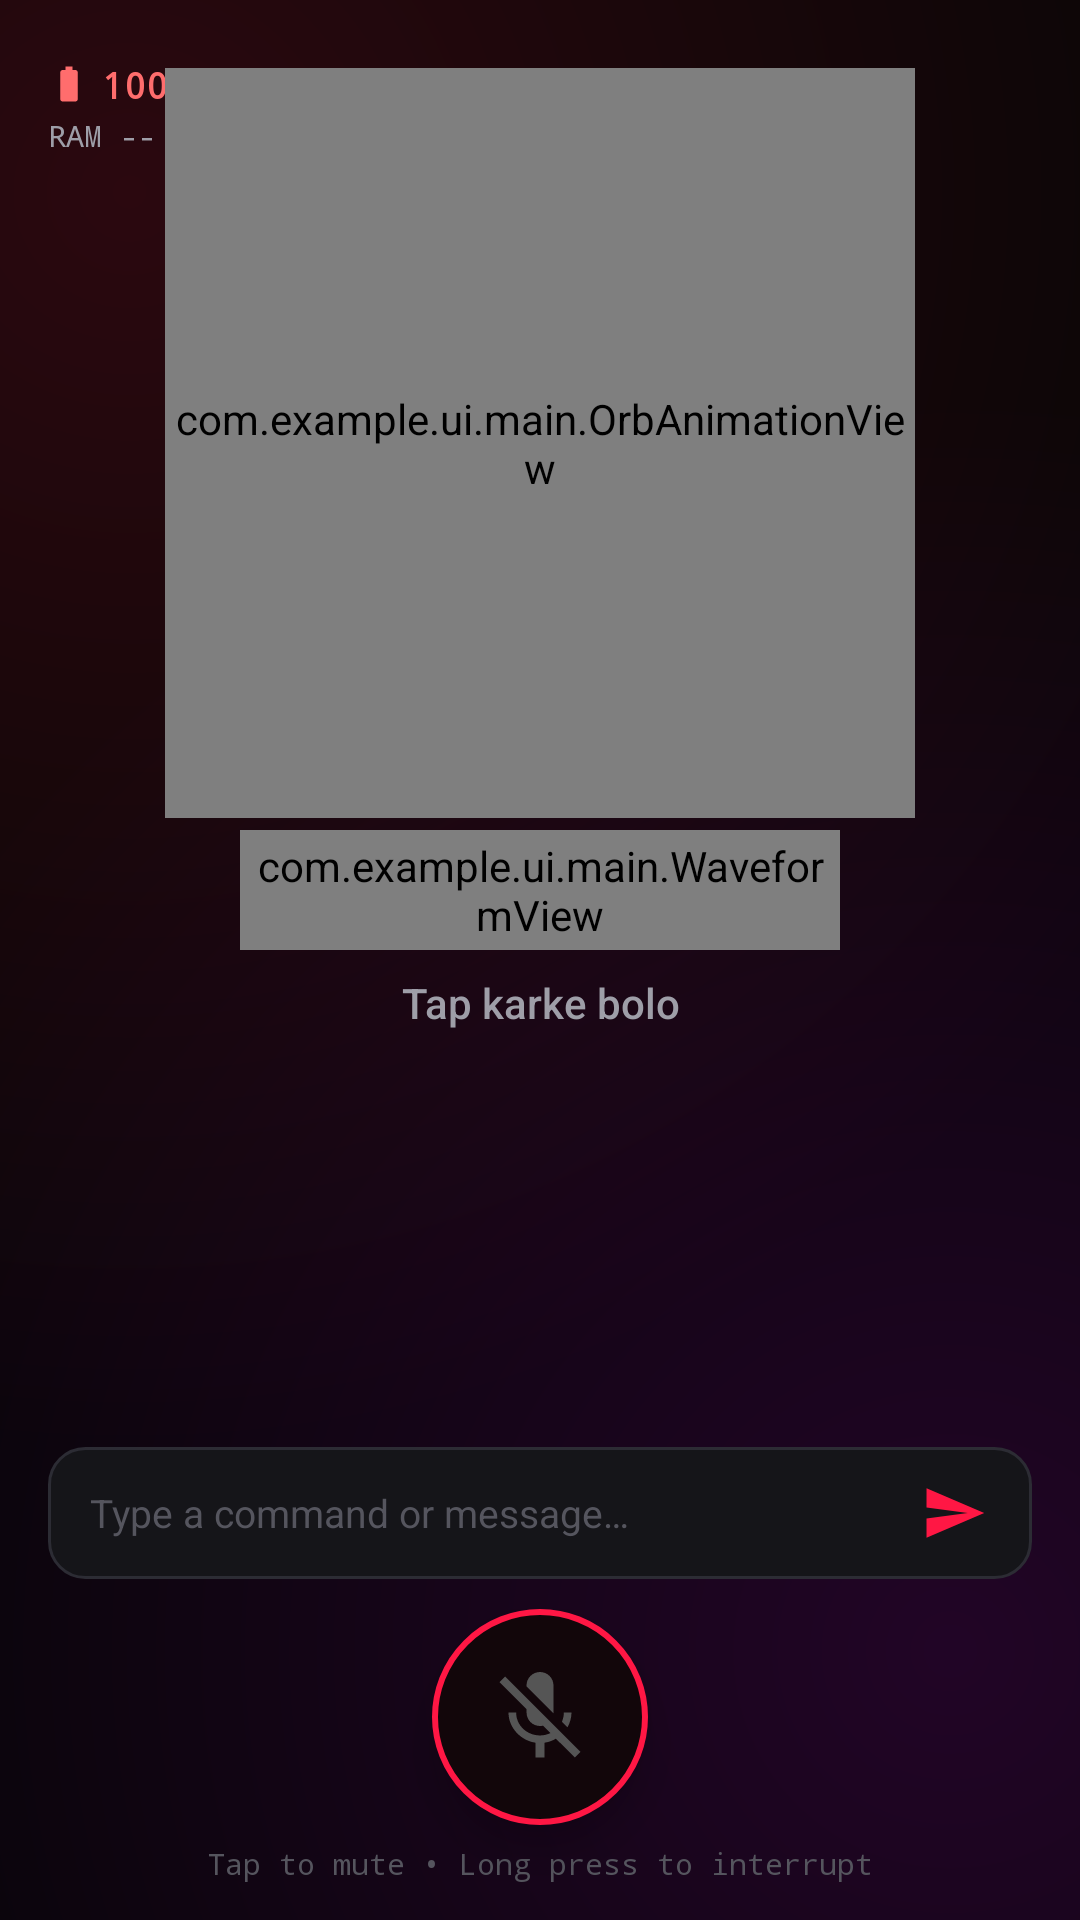

Point at icon controls on the screen. Image size 1080x1920, points as (x=x, y=y).
Battery status: (x=69, y=84)
Send message to MYRA: (x=955, y=1513)
Toggle microphone or long press to stop MYRA speaking: (x=540, y=1717)
